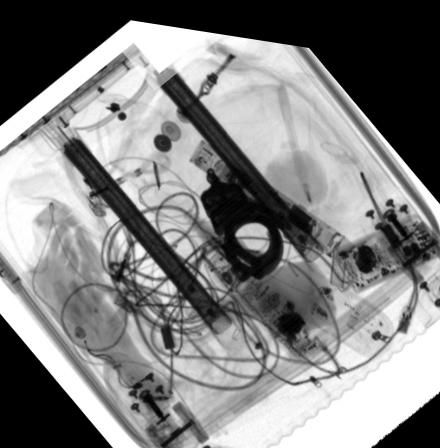Baton: (189, 133, 357, 250)
HandCuffs: (197, 157, 291, 271)
Lighter: (113, 286, 171, 332)
